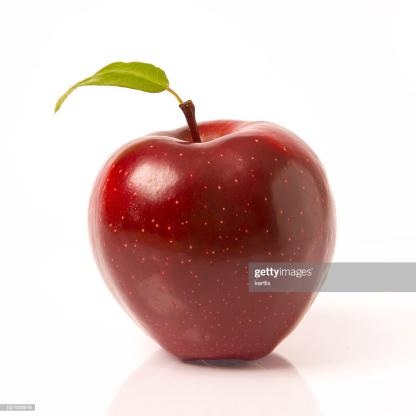Apple: (53, 63, 348, 368)
